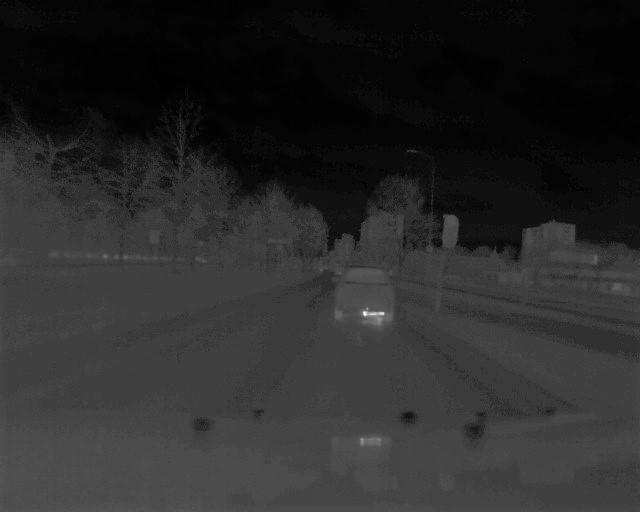car: (333, 265, 398, 325)
